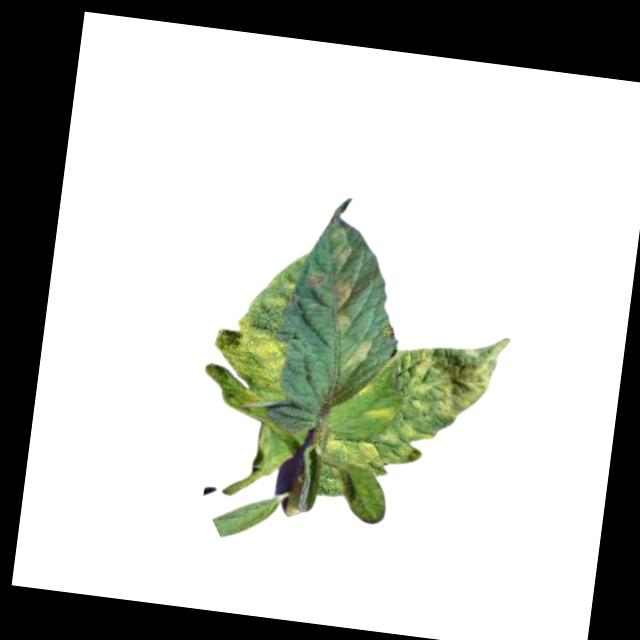Leaf_Mold: (388, 321, 511, 453), (199, 307, 297, 412), (319, 431, 418, 475), (339, 333, 378, 378), (330, 281, 356, 312), (360, 404, 396, 423), (333, 311, 353, 333)
